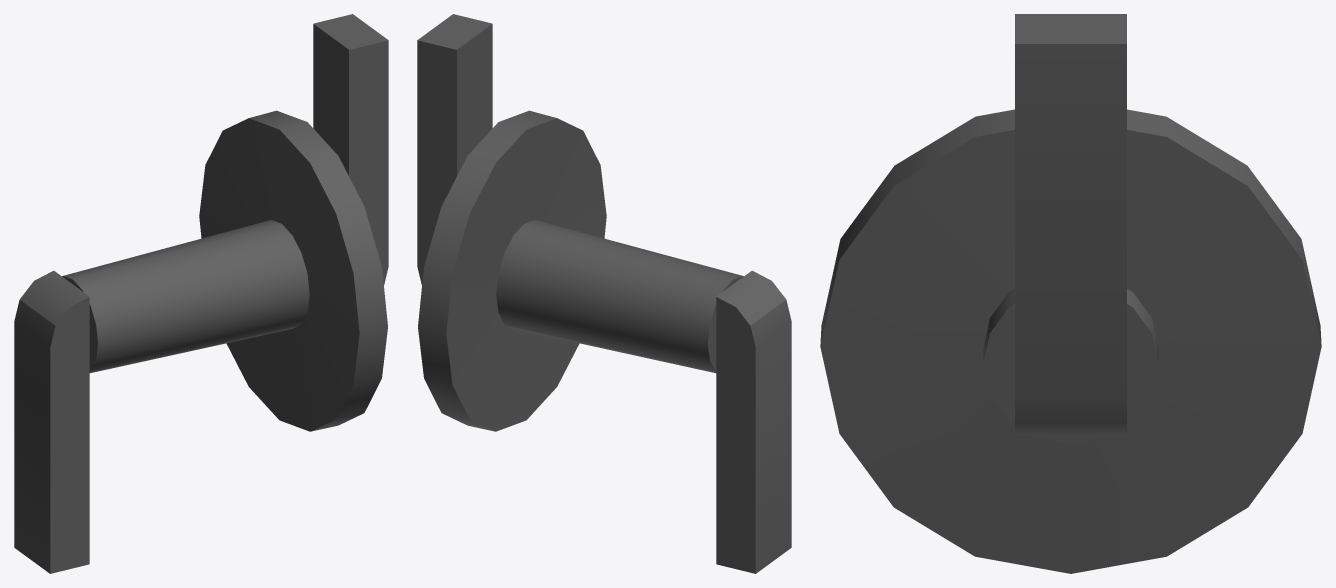
The model's file is Bike Pedals.fbx.
3 renders of one model, left to right at view 1: azimuth 30°, elevation 25°; view 2: azimuth 150°, elevation 25°; view 3: azimuth 270°, elevation 25°, orthographic. The views are drawn at different scales.
Visible parts, largest first — view 1: Mountain Bike Pedals; view 2: Mountain Bike Pedals; view 3: Mountain Bike Pedals.
Boxes of the visible parts, x1,y1,x2,y2 form: Mountain Bike Pedals: (14, 14, 388, 573); Mountain Bike Pedals: (417, 14, 791, 573); Mountain Bike Pedals: (820, 14, 1321, 573).
Bounding box in the file's own units: 42.22 × 53.77 × 34.82.
